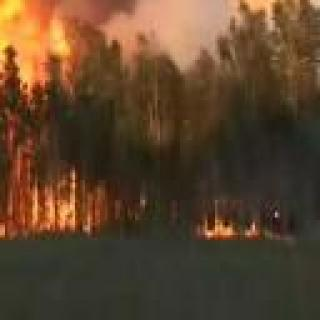fire: (0, 118, 118, 232), (0, 0, 78, 87), (188, 200, 270, 239)
